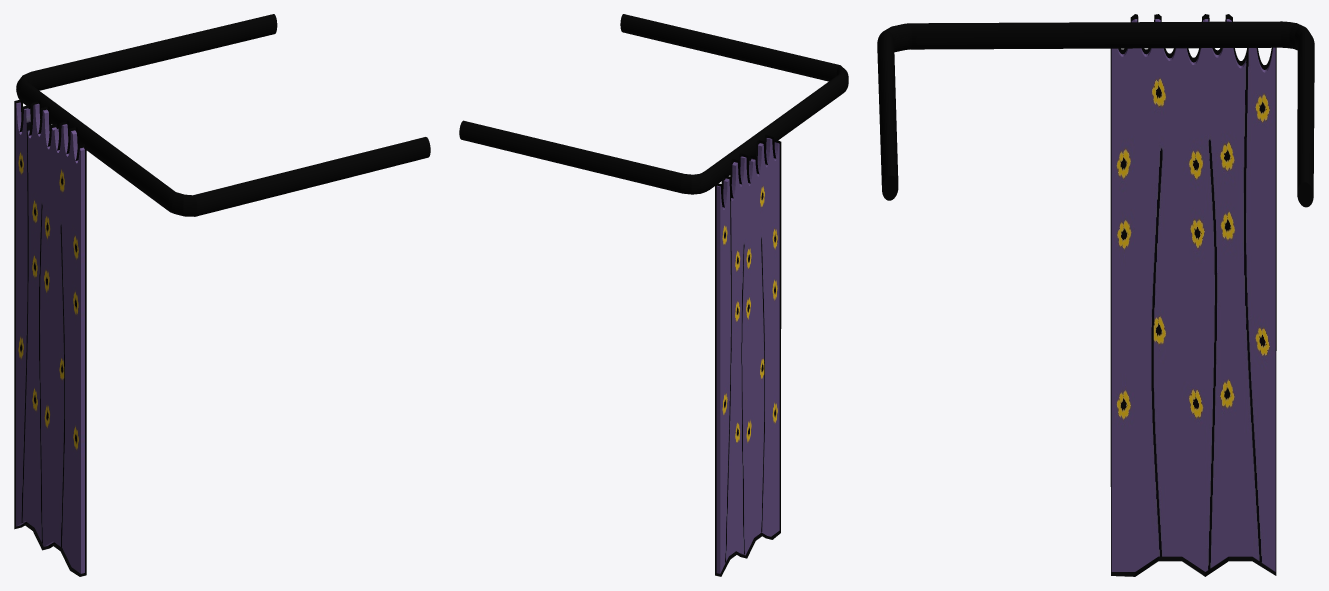
The model's file is Cortina.obj.
3 renders of one model, left to right at view 1: azimuth 30°, elevation 25°; view 2: azimuth 150°, elevation 25°; view 3: azimuth 270°, elevation 25°, orthographic. The views are drawn at different scales.
Parts seen in each view (by area): view 1: Plano, Círculo.001; view 2: Plano, Círculo.001; view 3: Plano, Círculo.001.
Part boxes in pixels (left/top/right/bottom): Plano: left=14, top=99, right=86, bottom=576; Círculo.001: left=16, top=14, right=430, bottom=216; Plano: left=715, top=134, right=781, bottom=576; Círculo.001: left=459, top=14, right=848, bottom=194; Plano: left=1110, top=14, right=1276, bottom=576; Círculo.001: left=877, top=21, right=1314, bottom=207.
Bounding box in the file's own units: 2.31 × 3.58 × 2.54.
4 materials, 4 textured.
